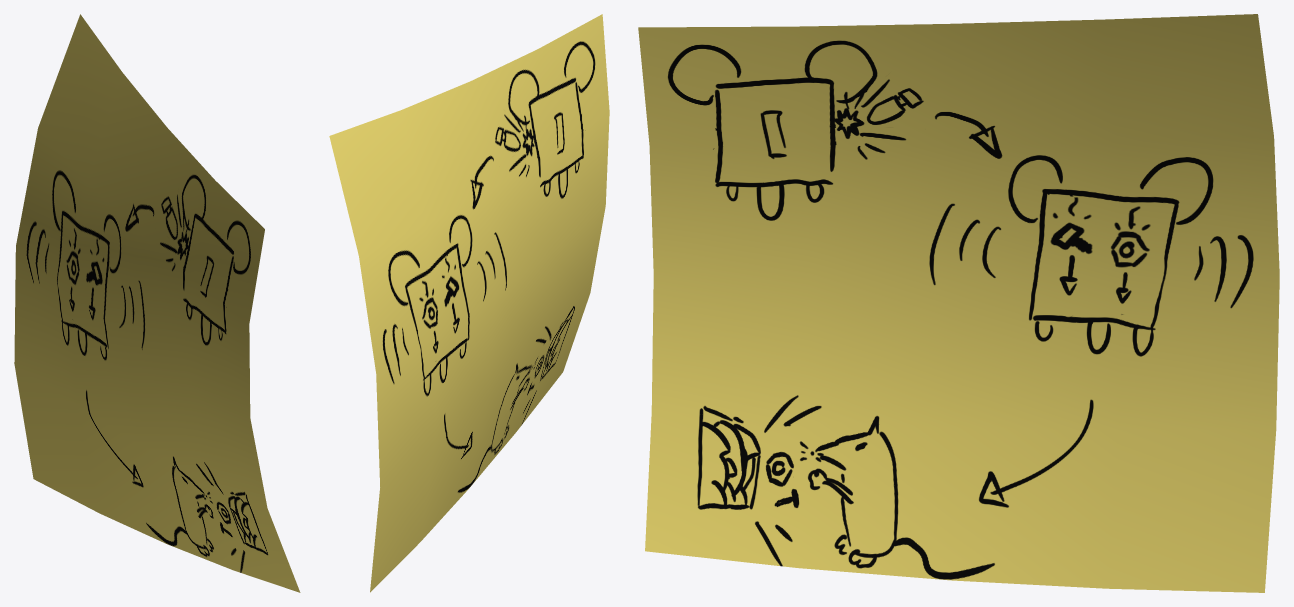
File: PostItColourDebris.fbx
3 views of the same model, side by side, from view 1: azimuth 30°, elevation 25°; view 2: azimuth 150°, elevation 25°; view 3: azimuth 270°, elevation 25° (orthographic). The views are drawn at different scales.
Visible parts, largest first — view 1: Cube; view 2: Cube; view 3: Cube.
Part boxes in pixels (left/top/right/bottom): Cube: left=14, top=14, right=300, bottom=592; Cube: left=329, top=14, right=609, bottom=592; Cube: left=638, top=14, right=1279, bottom=592.
Size of the model in its own units: 147 by 1070 by 1024.
